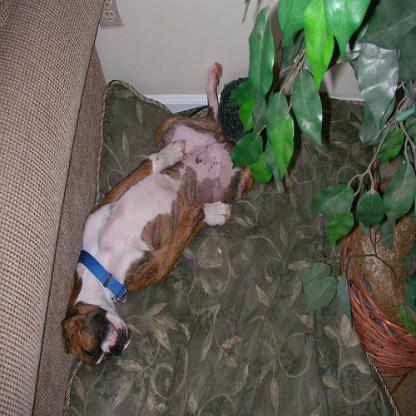dog: (60, 61, 254, 364)
pottedplant: (300, 0, 416, 376), (218, 0, 374, 189)
